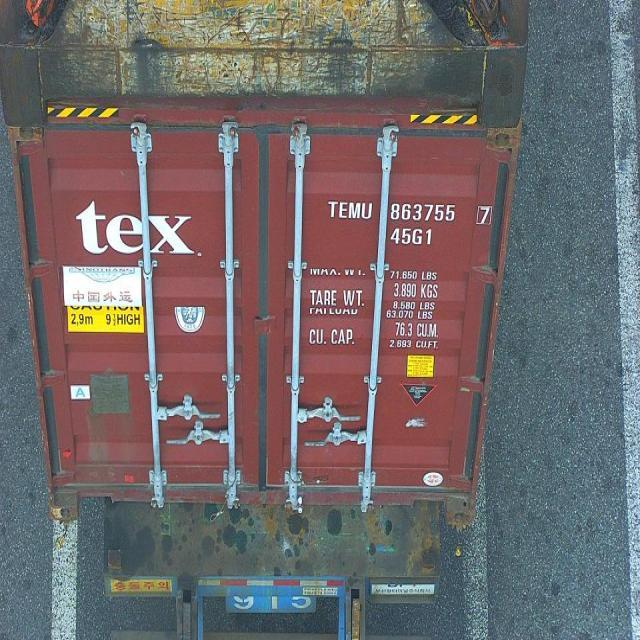ISO: (392, 226, 434, 243)
container_number: (328, 198, 496, 225)
